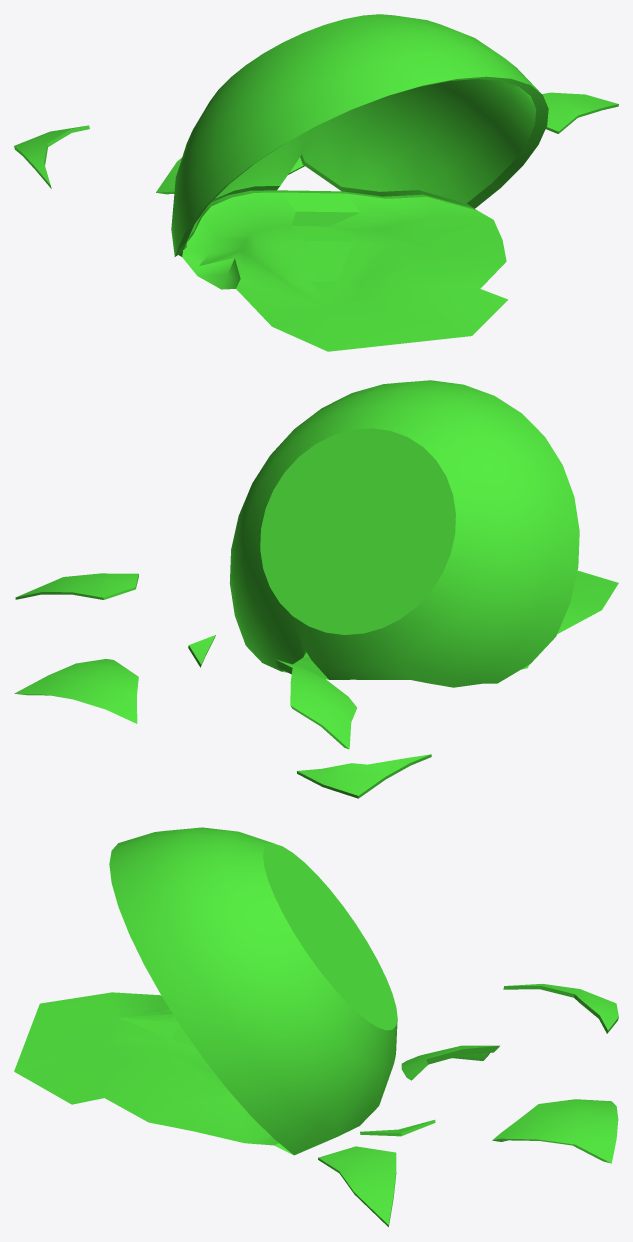
File: BrokenBowl.fbx
3 views of the same model, one above another, from view 1: azimuth 30°, elevation 25°; view 2: azimuth 150°, elevation 25°; view 3: azimuth 270°, elevation 25° (orthographic). The views are drawn at different scales.
Parts seen in each view (by area): view 1: Sphere, Sphere.003, Sphere.005, Sphere.002; view 2: Sphere, Sphere.001, Sphere.002, Sphere.005, Sphere.003; view 3: Sphere, Sphere.001, Sphere.003, Sphere.005, Sphere.002.
Boxes of the visible parts, bbox=[...] form: Sphere: bbox=[171, 14, 548, 351]; Sphere.003: bbox=[542, 92, 618, 133]; Sphere.005: bbox=[14, 125, 89, 188]; Sphere.002: bbox=[156, 157, 304, 194]; Sphere: bbox=[229, 380, 618, 687]; Sphere.001: bbox=[14, 659, 138, 723]; Sphere.002: bbox=[275, 659, 356, 749]; Sphere.005: bbox=[297, 754, 431, 798]; Sphere.003: bbox=[15, 573, 138, 599]; Sphere: bbox=[14, 827, 397, 1155]; Sphere.001: bbox=[492, 1099, 618, 1163]; Sphere.003: bbox=[318, 1146, 396, 1226]; Sphere.005: bbox=[503, 983, 618, 1033]; Sphere.002: bbox=[401, 1045, 499, 1080].
Bounding box in the file's own units: 287 × 135 × 301.
